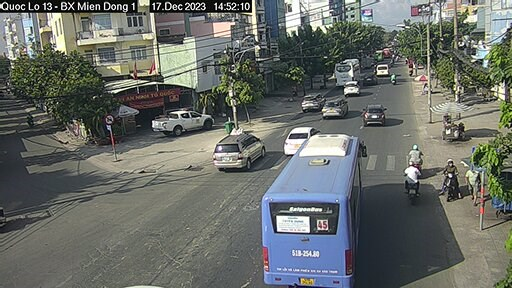bus: (243, 130, 364, 288)
car: (147, 105, 217, 136), (215, 127, 251, 167), (333, 57, 360, 91), (286, 121, 310, 156), (316, 95, 345, 122), (363, 101, 386, 131), (300, 89, 317, 114), (344, 77, 363, 97)
